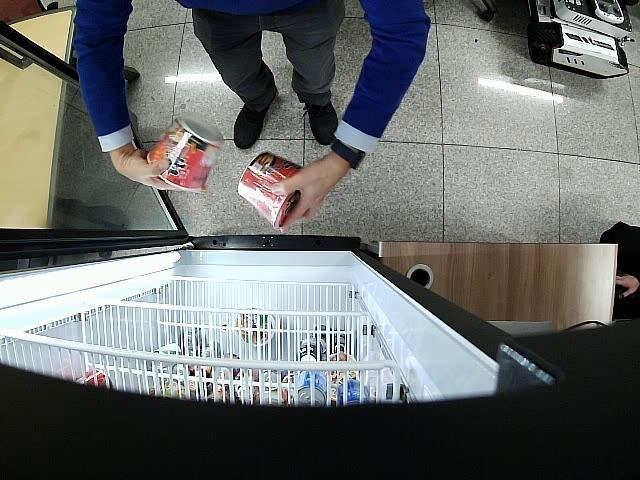01_ShinRamen_L: (148, 113, 225, 196), (238, 150, 304, 229)
